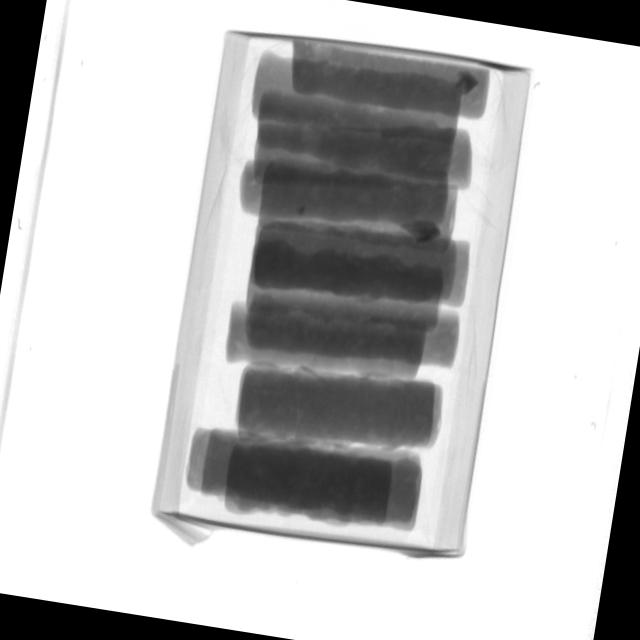ym: (402, 214, 444, 245), (455, 72, 482, 94), (298, 206, 307, 216)
